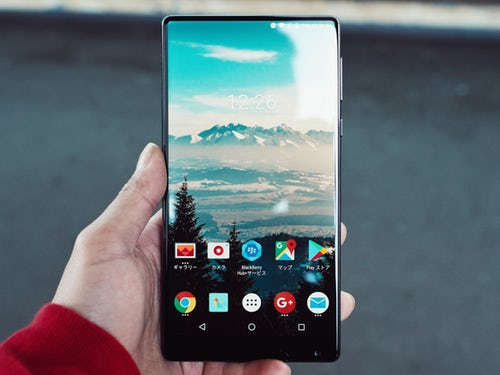phone: (158, 12, 344, 365)
